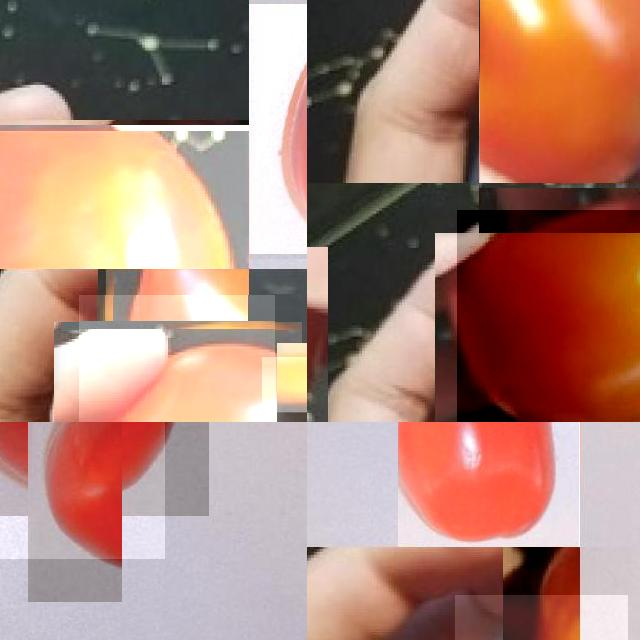0: (0, 125, 249, 269), (79, 295, 275, 422), (249, 3, 307, 254)
Fresh Tomato: (457, 210, 640, 422), (479, 0, 640, 183), (398, 422, 580, 547), (0, 422, 165, 559), (455, 595, 628, 640)
